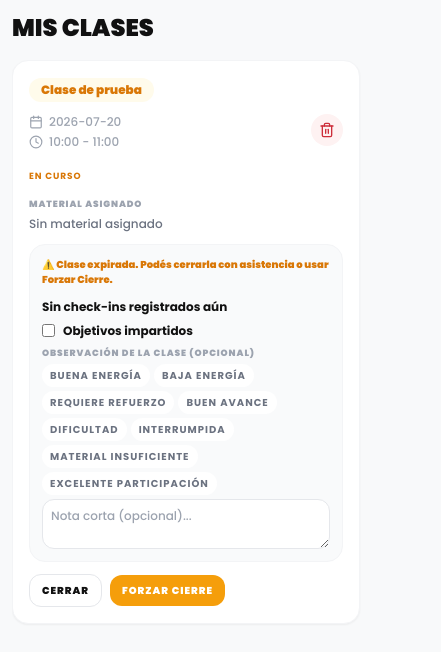
Test case: Integracion: cierre de jornada persiste la asistencia real › SIN check-ins reales el cierre se rechaza y la jornada no cambia de estado
Expected: the text "Sin check-ins registrados aún" is shown, x1=42 y1=298 x2=227 y2=314
Step 1. Click the checkbox labelled "Objetivos impartidos" → (48, 330), box x1=42 y1=324 x2=55 y2=337
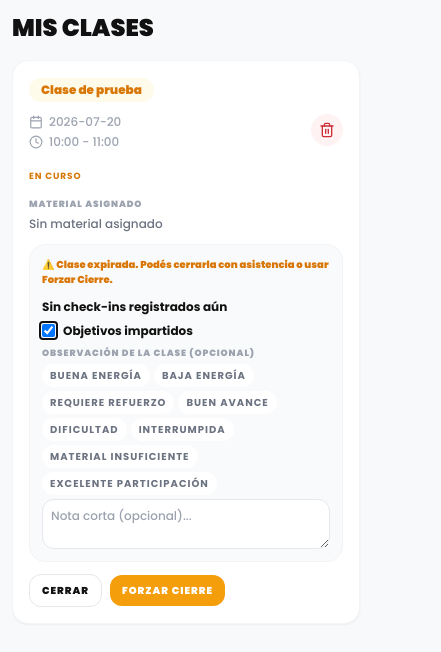
Step 2. Click the button "Cerrar" → (65, 590), box x1=29 y1=574 x2=102 y2=607
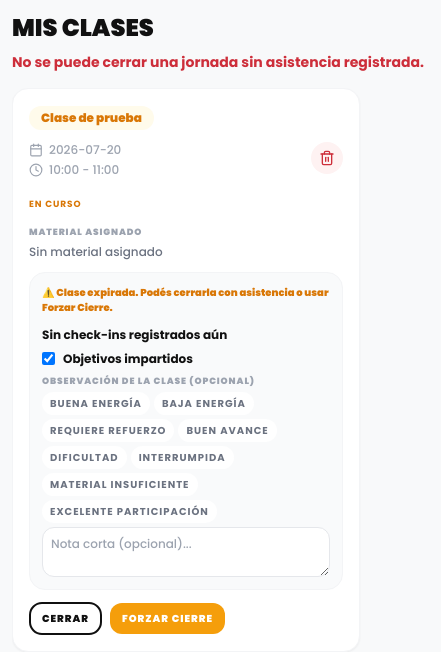
Now the text "No se puede cerrar una jornada sin asistencia registrada." is shown, box x1=12 y1=52 x2=424 y2=72
